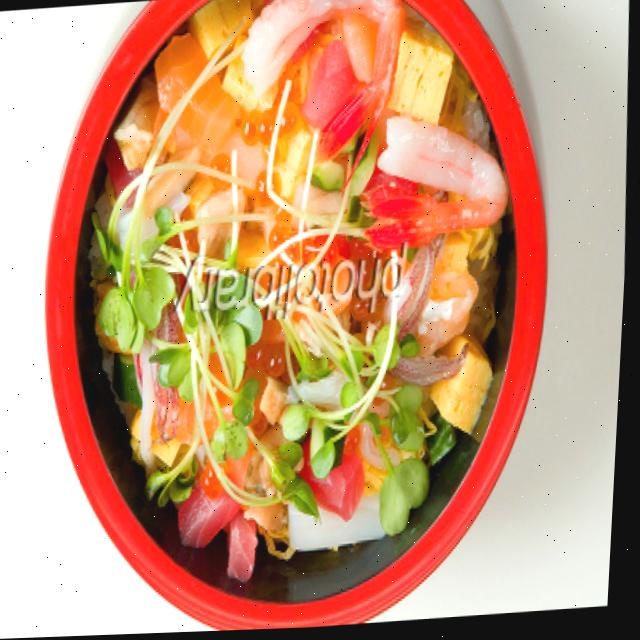寿司卷物: (14, 0, 612, 639)
